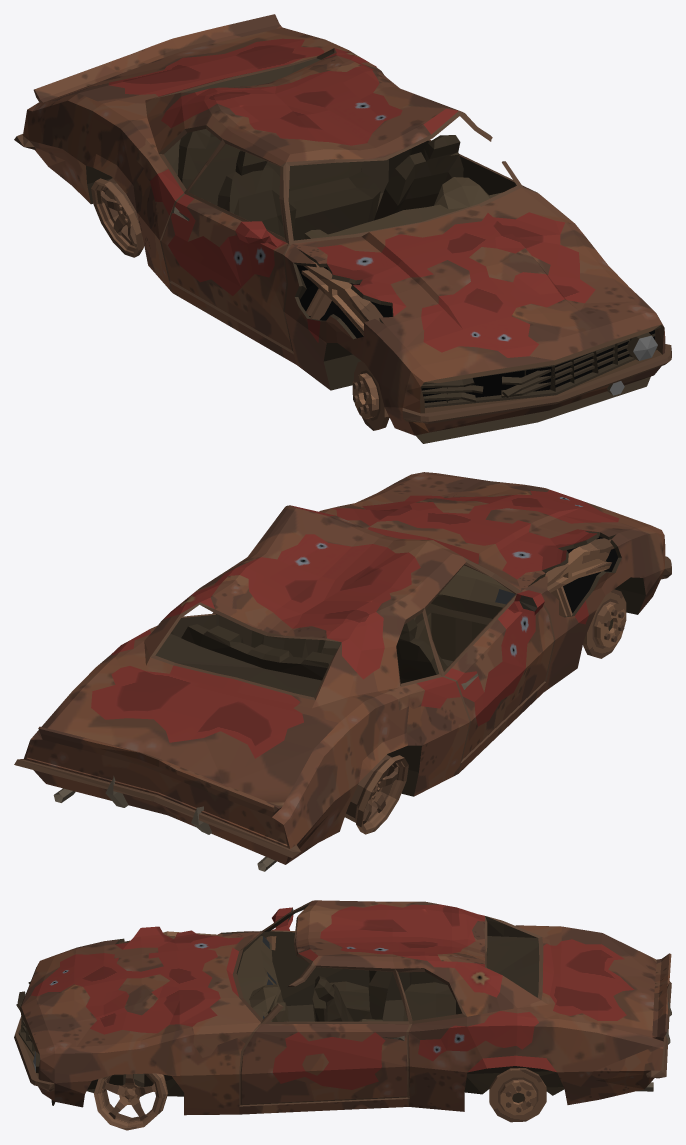
The model's file is SM_Prop_Vehicle_Wrecked_02.obj.
3 views of the same model, one above another, from view 1: azimuth 30°, elevation 25°; view 2: azimuth 150°, elevation 25°; view 3: azimuth 270°, elevation 25° (orthographic). The views are drawn at different scales.
Visible parts, largest first — view 1: SM_Prop_Vehicle_Wrecked_02_0; view 2: SM_Prop_Vehicle_Wrecked_02_0; view 3: SM_Prop_Vehicle_Wrecked_02_0.
Part boxes in pixels (box(x1,y1,x2,y2)): SM_Prop_Vehicle_Wrecked_02_0: box(14, 14, 671, 443); SM_Prop_Vehicle_Wrecked_02_0: box(14, 472, 671, 871); SM_Prop_Vehicle_Wrecked_02_0: box(14, 900, 671, 1130).
Size of the model in its own units: 2.39 by 1.49 by 5.65.
Materials: 1 (1 with a texture image).
